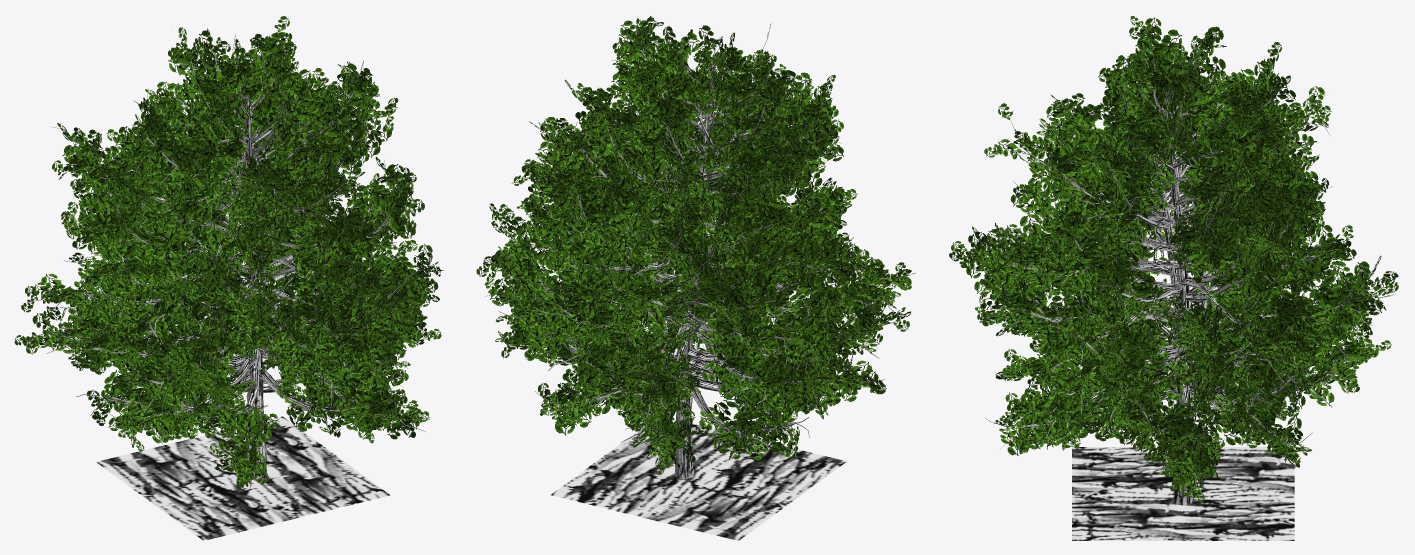
Rendered from beech.4.5.3.fbx.
3 renders of one model, left to right at view 1: azimuth 30°, elevation 25°; view 2: azimuth 150°, elevation 25°; view 3: azimuth 270°, elevation 25°, orthographic. The views are drawn at different scales.
Parts seen in each view (by area): view 1: plant_pmat5.002, Grid, plant_pmat3.002, plant_pmat4.002, plant_pmat2.002; view 2: plant_pmat5.002, Grid, plant_pmat3.002, plant_pmat4.002, plant_pmat1.002, plant_pmat2.002; view 3: plant_pmat5.002, Grid, plant_pmat3.002, plant_pmat4.002, plant_pmat2.002.
Part boxes in pixels (x1,y1,x2,y2): plant_pmat5.002: (14,16,443,488); Grid: (96,416,390,540); plant_pmat3.002: (68,51,407,460); plant_pmat4.002: (26,26,433,483); plant_pmat2.002: (245,95,263,395); plant_pmat5.002: (476,16,915,474); Grid: (551,419,846,540); plant_pmat3.002: (523,48,871,437); plant_pmat4.002: (484,26,910,459); plant_pmat1.002: (674,395,694,478); plant_pmat2.002: (678,104,729,389); plant_pmat5.002: (949,16,1398,503); Grid: (1072,447,1294,540); plant_pmat3.002: (1010,45,1360,460); plant_pmat4.002: (958,28,1396,489); plant_pmat2.002: (1143,92,1191,417).
Size of the model in its own units: 403 by 456 by 407.
